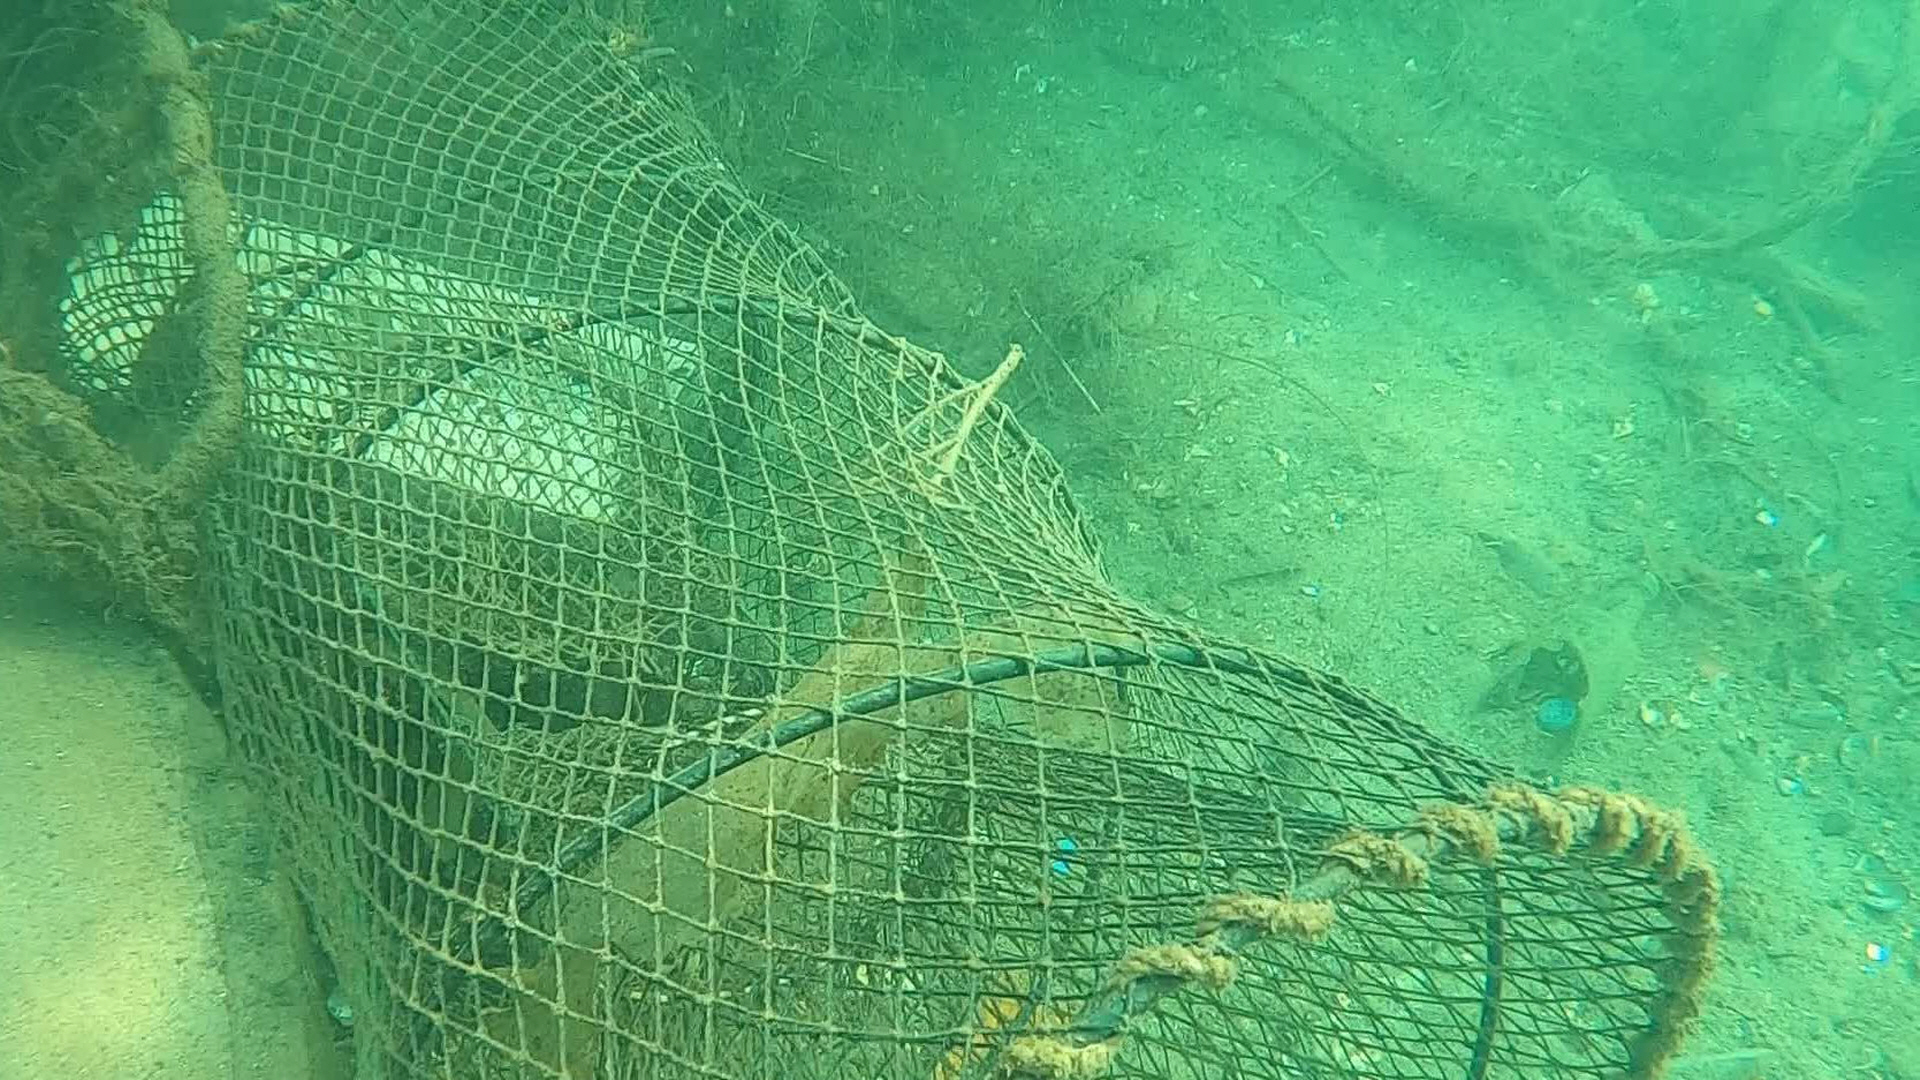spring fish trap: (0, 1, 1716, 1080)
